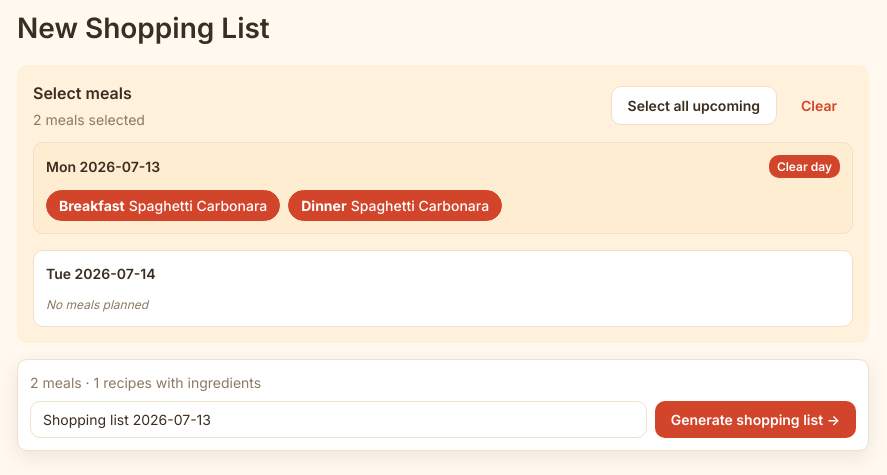
ShoppingListNewView › day-level select/clear toggles all of that day entries
Click the button with class "day-toggle" at (804, 166), box left=769, top=155, right=840, bottom=178
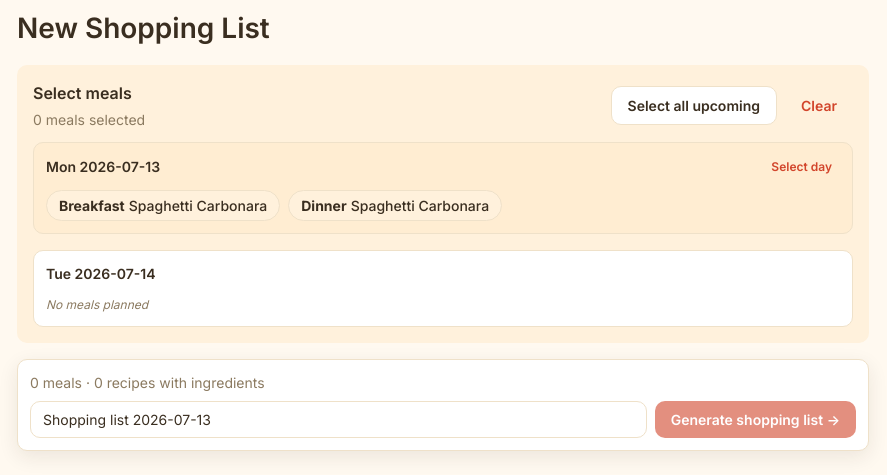
Check: the text "0 meals selected" is shown, box left=33, top=109, right=145, bottom=130
Check: the button with class "day-toggle" reads "Select day"
Click the button with class "day-toggle" at (802, 166), box left=763, top=155, right=840, bottom=178
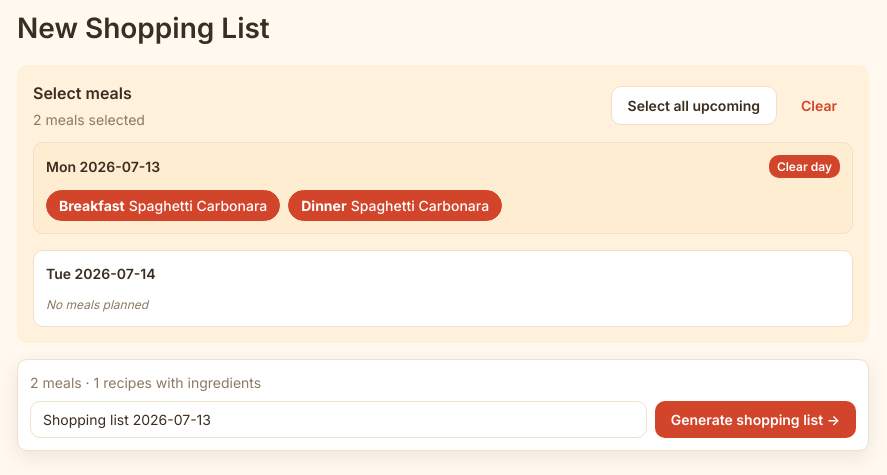
Check: the text "2 meals selected" is shown, box left=33, top=109, right=145, bottom=130
